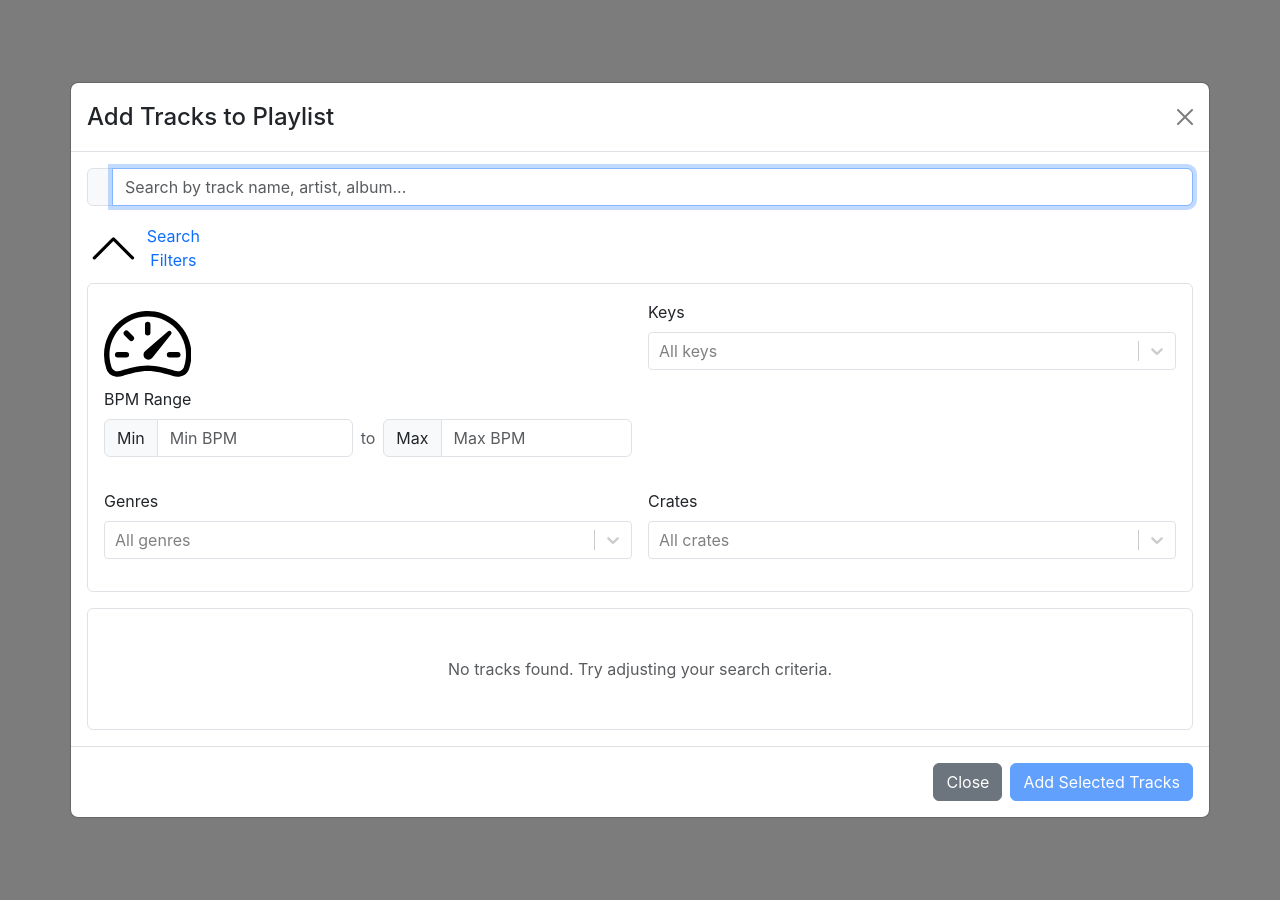
TrackSearchModal › disables Add button when no tracks selected
Step 1. Type "Track" into the field with placeholder "Search by track name, artist, album..." → (652, 187), box [112,168,1193,206]
(page scrolled)
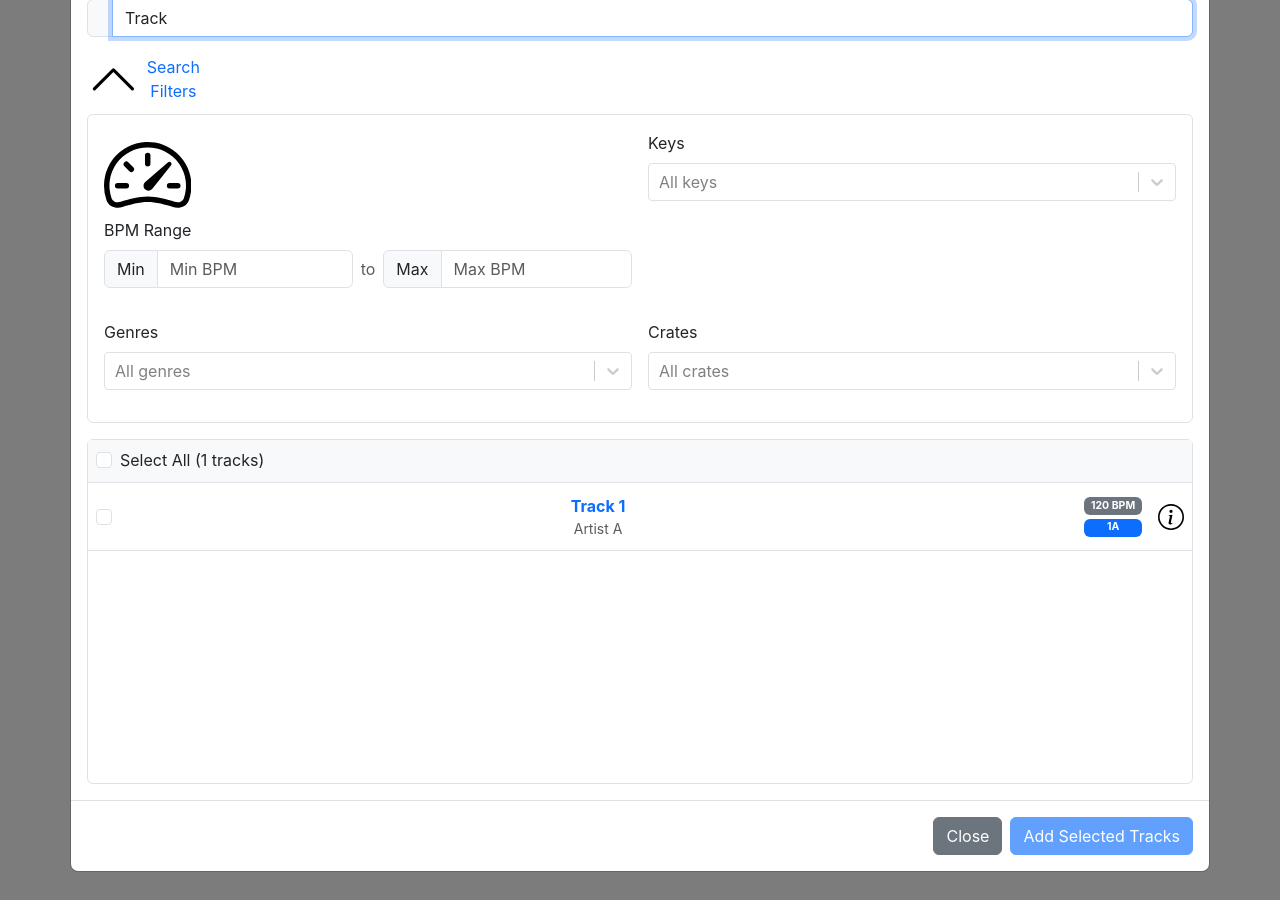
Expected: the button "Add Selected Tracks" is disabled, [1010,817,1193,855]
Expected: the text "Track 1" is shown, [571,496,626,516]
